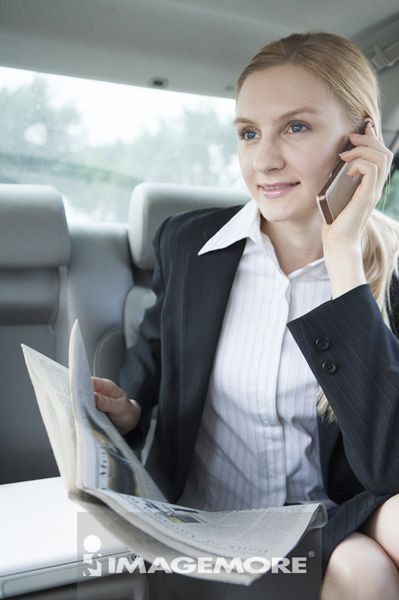phone: (320, 126, 376, 224)
talk: (234, 103, 394, 292)
